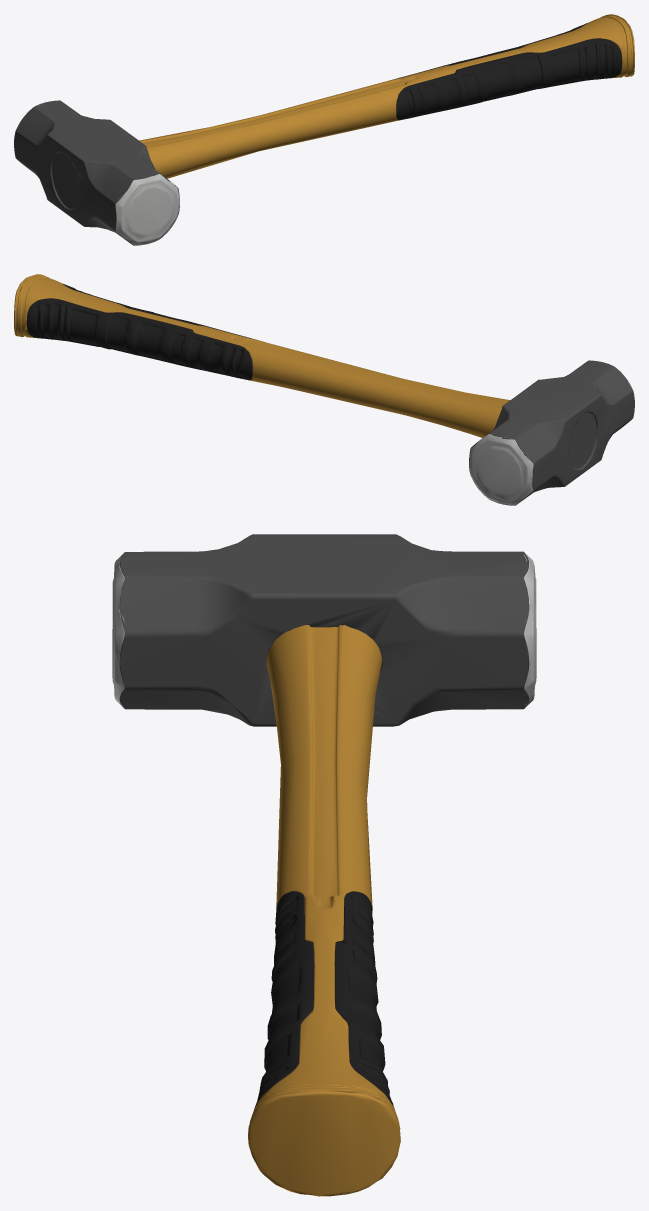
Rendered from p_hammer.glb.
The picture shows the model from 3 angles, top to bottom: view 1: azimuth 30°, elevation 25°; view 2: azimuth 150°, elevation 25°; view 3: azimuth 270°, elevation 25°; orthographic projection. The views are drawn at different scales.
Visible parts, largest first — view 1: p_hammer_mesh; view 2: p_hammer_mesh; view 3: p_hammer_mesh.
Boxes of the visible parts, left/top/right/bottom form: p_hammer_mesh: left=14, top=14, right=634, bottom=245; p_hammer_mesh: left=14, top=274, right=634, bottom=505; p_hammer_mesh: left=112, top=534, right=536, bottom=1196.
Size of the model in its own units: 0.3944 by 0.0451 by 0.1296.
Materials: 4 (1 with a texture image).
